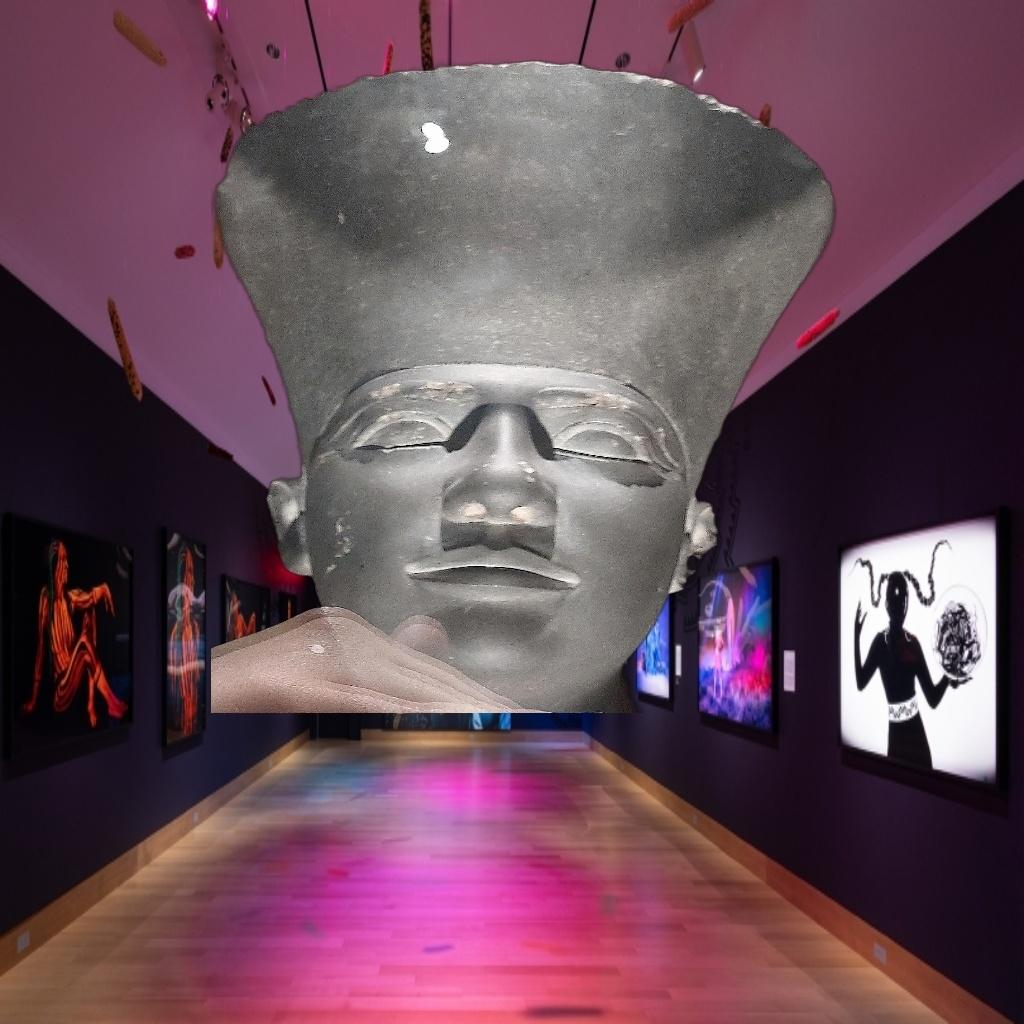Head of Userkaf: (211, 56, 837, 712)
